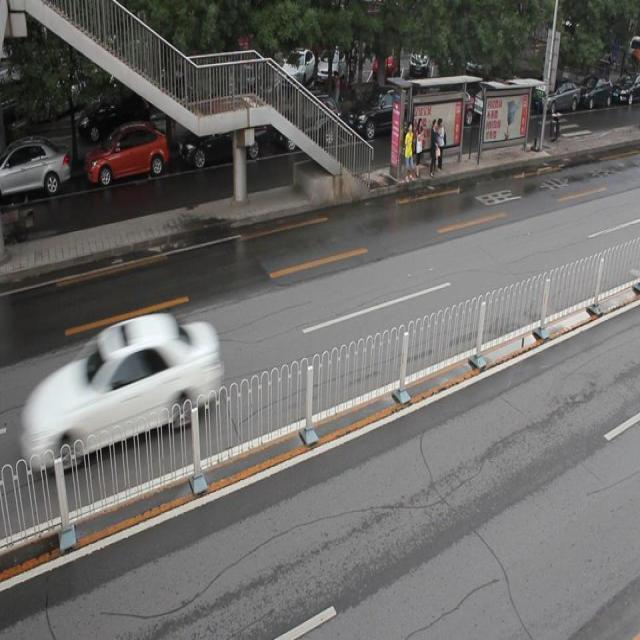car: (21, 312, 222, 468), (179, 96, 267, 166), (85, 123, 171, 188), (1, 137, 69, 195), (276, 94, 338, 151), (350, 85, 412, 141)
